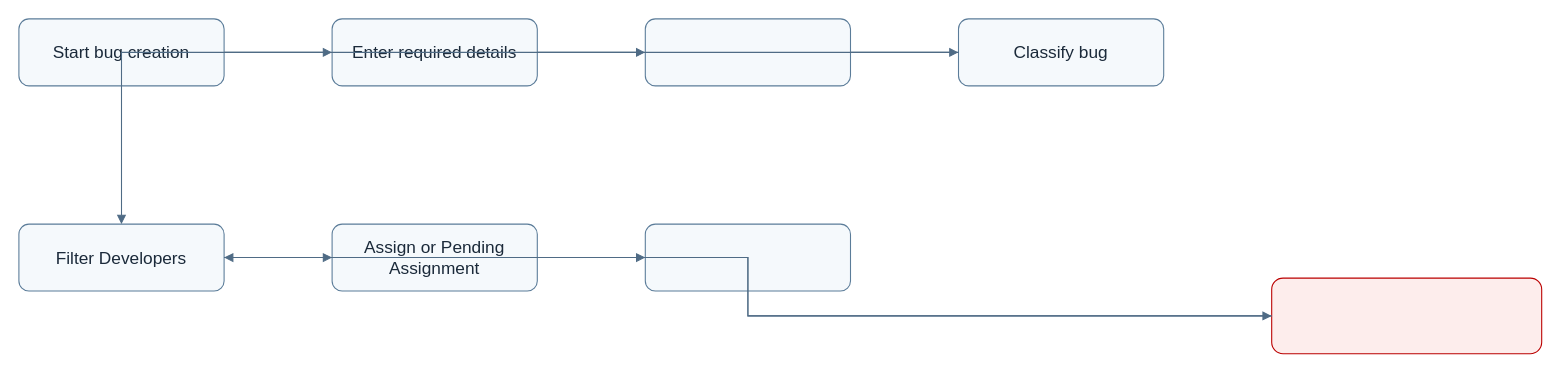
The diagram is 1561 pixels wide and 373 high, and some of its shapes have lost their labels. The shapes that lost their labels are listed below. From the top down, each one's centre as x and y in pixels, then its label:
[747,52]: Check existing bugs
[747,257]: Write history and notify
[1406,315]: No suitable Developer Pending Assignment
